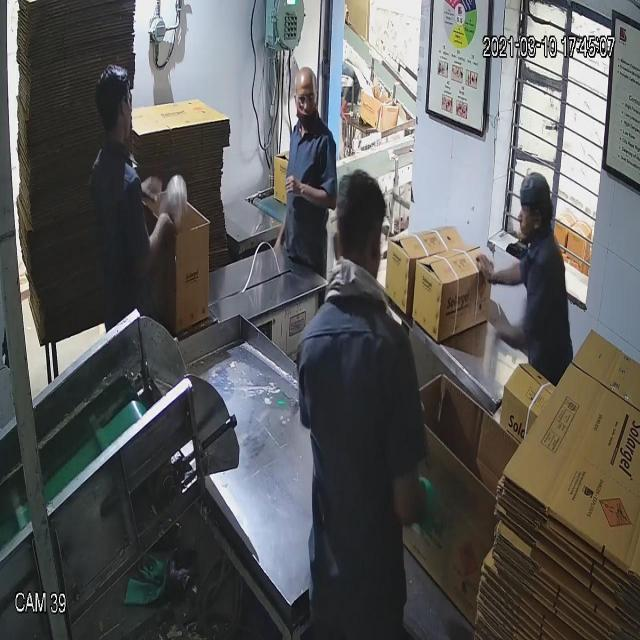No_Gloves: (48, 45, 501, 322)
